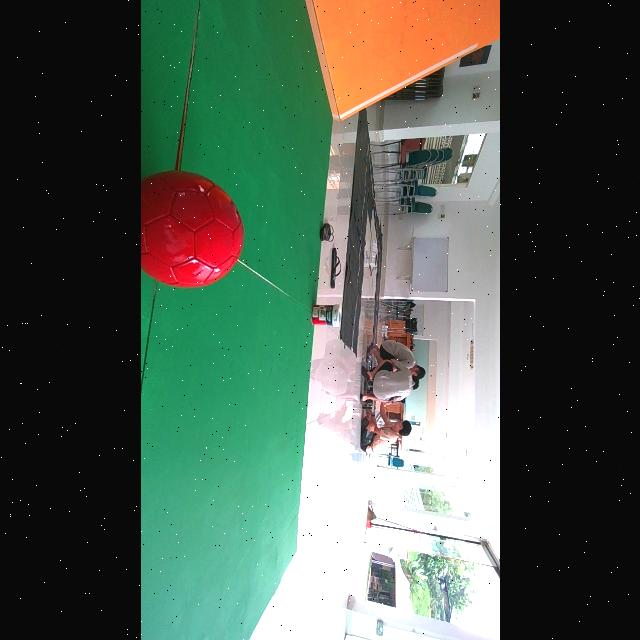R: (140, 171, 242, 287)
